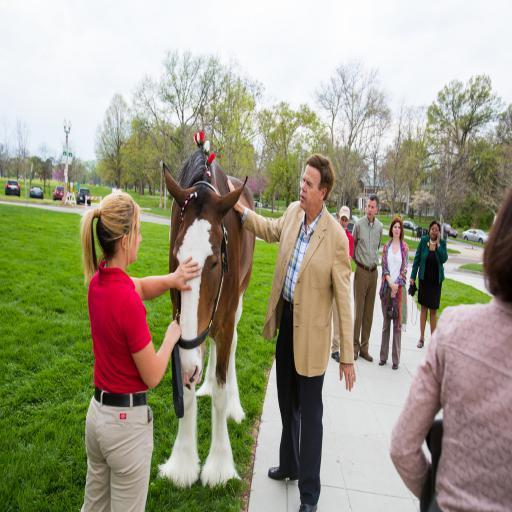horse: (162, 148, 256, 490)
